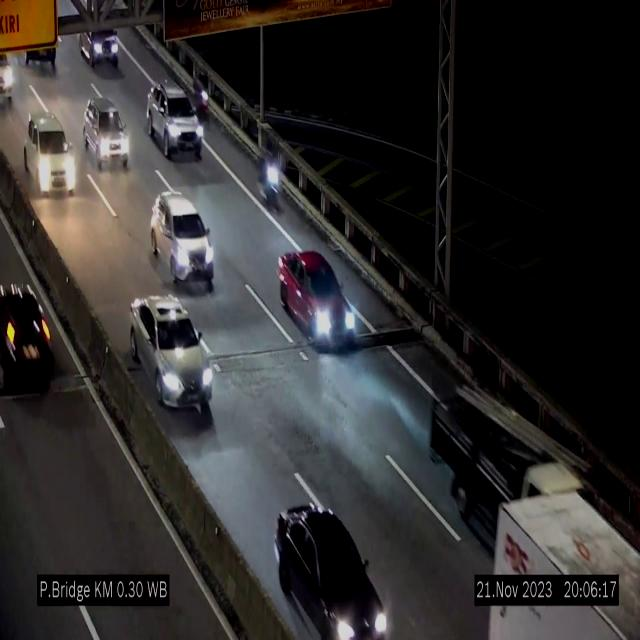Car: (271, 508, 392, 640), (130, 296, 212, 414), (275, 248, 358, 364), (147, 189, 221, 291), (0, 278, 58, 393), (26, 112, 78, 205), (146, 81, 204, 159), (81, 91, 130, 178), (76, 22, 126, 72), (0, 44, 18, 110)
Motorcycle: (256, 133, 285, 215), (193, 71, 210, 127)
Truck: (425, 363, 640, 565), (484, 479, 640, 640)
